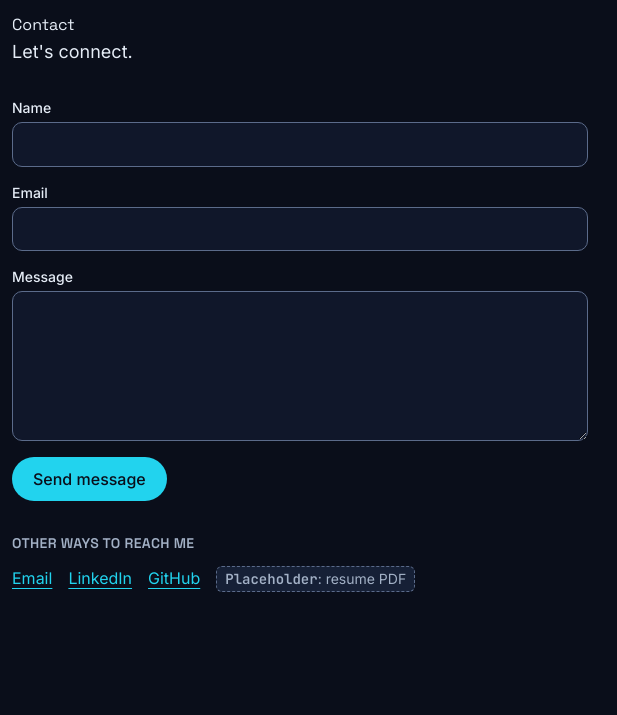
Contact (access key present) › keeps the input and shows the mailto fallback on an error
Type "Ada Lovelace" into the field labelled "Name" at {"x": 300, "y": 145}, box [12,122,588,167]
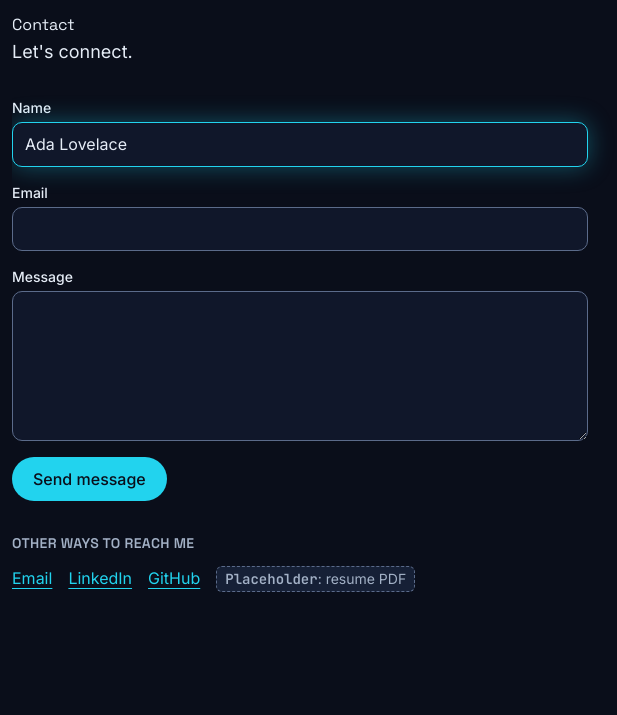
Type "ada@example.com" into the field labelled "Email" at {"x": 300, "y": 229}, box [12,207,588,251]
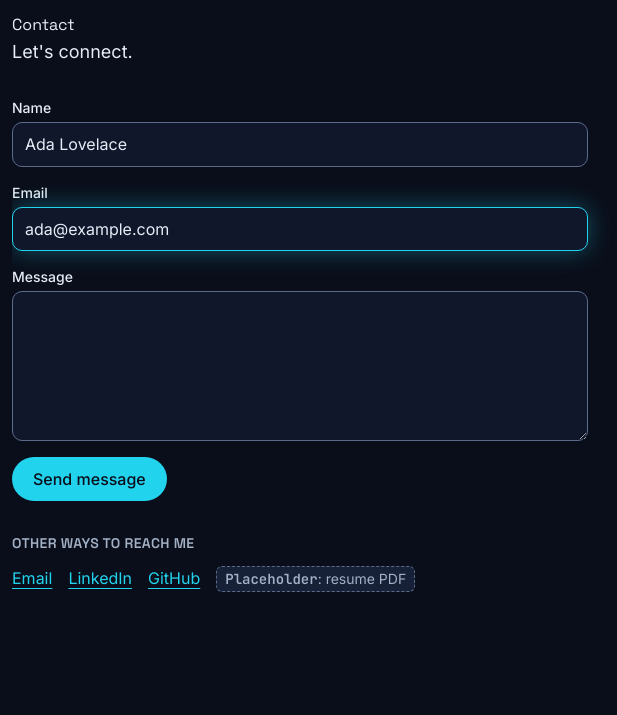
Type "Keep this text" into the text box labelled "Message" at {"x": 300, "y": 366}, box [12,291,588,441]
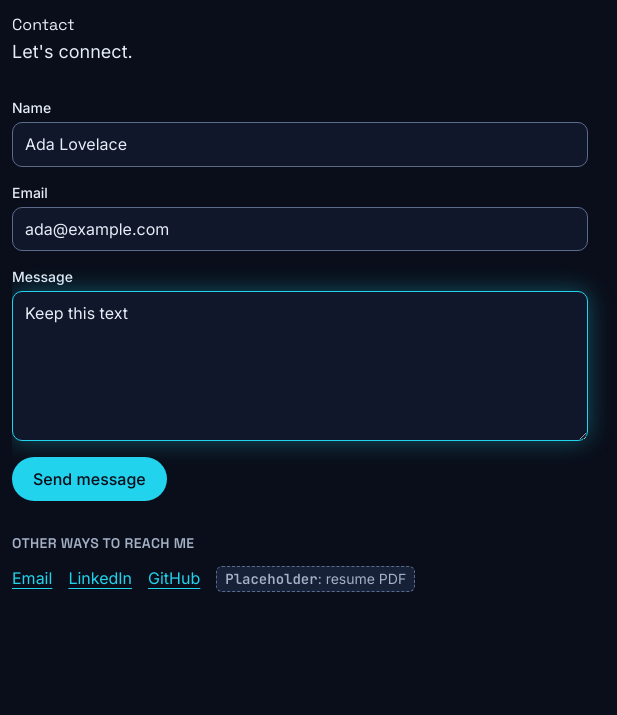
Click the button "Send message" at {"x": 89, "y": 479}, box [12,457,167,501]
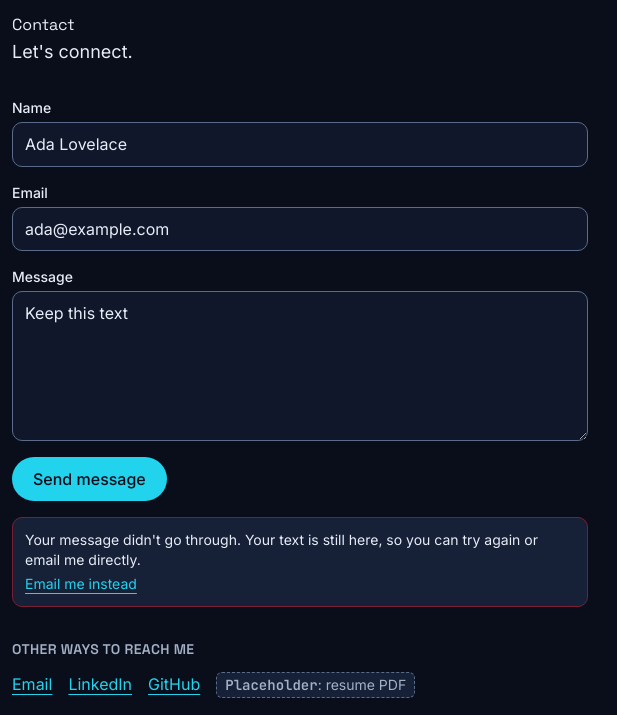
Check: the message shows "Your message didn't go through. Your text is still here, so you can try again or email me directly.", box [25,531,538,568]
Check: the link "Email me instead" is shown, box [25,575,137,592]
